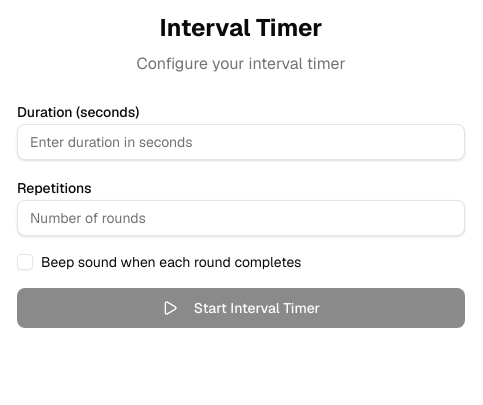
Test: RepeatTimer › Input Validation › should enable start button when inputs are valid
Type "1" into the number field labelled "Duration (seconds)" at (241, 142), box x1=17 y1=124 x2=465 y2=160
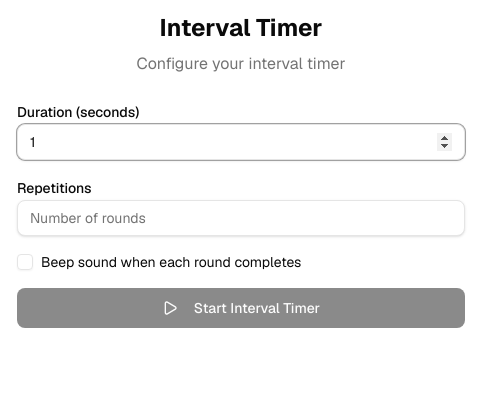
Type "2" into the number field labelled "Repetitions" at (241, 218), box x1=17 y1=200 x2=465 y2=236
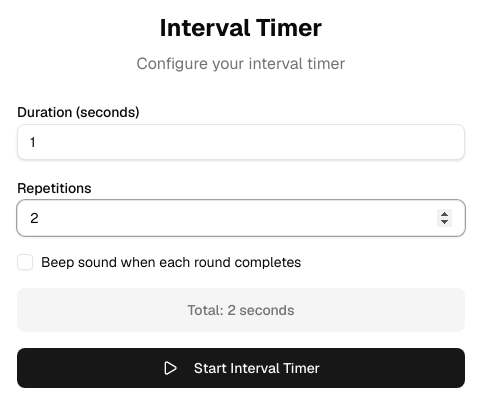
Check: the button "Start Interval Timer" is enabled, box x1=17 y1=348 x2=465 y2=388
